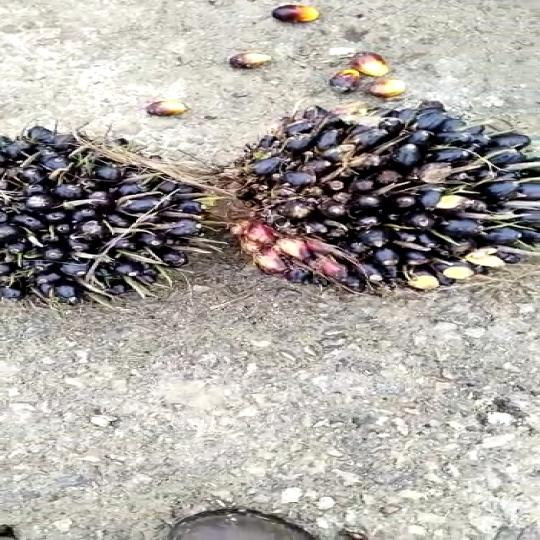mentah: (199, 74, 540, 280), (0, 108, 222, 292)
